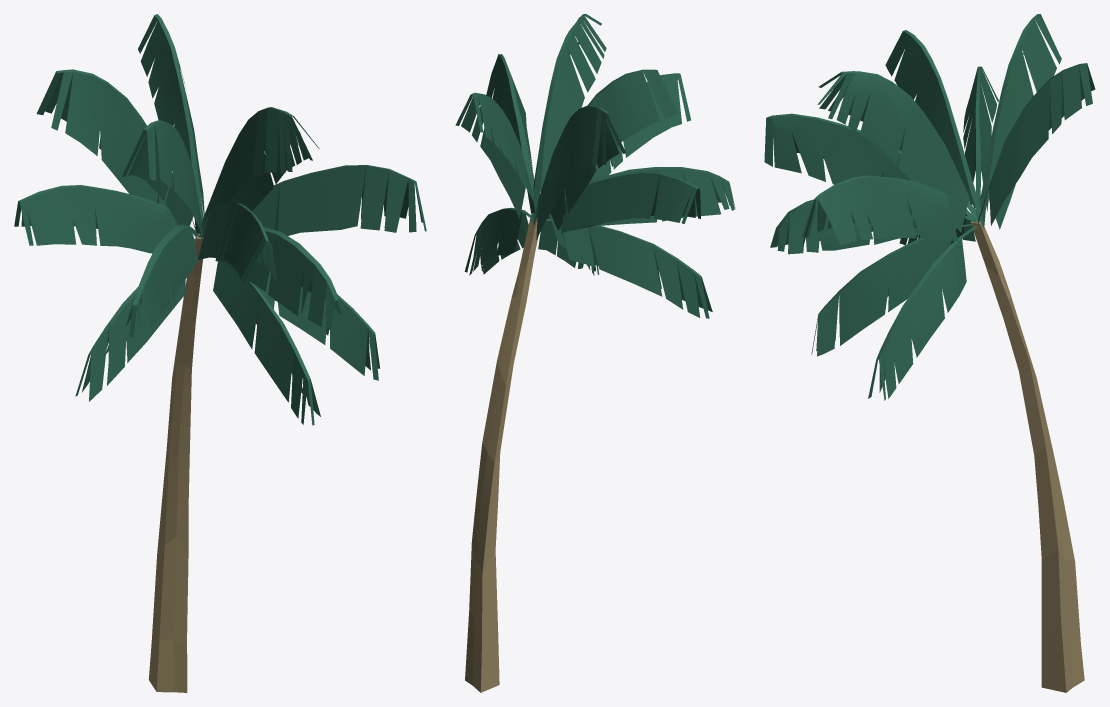
The model's file is tree_palm_nibong_D.fbx.
The picture shows the model from 3 angles, left to right: view 1: azimuth 30°, elevation 25°; view 2: azimuth 150°, elevation 25°; view 3: azimuth 270°, elevation 25°; orthographic projection. The views are drawn at different scales.
Visible parts, largest first — view 1: palm_nibong_trunk_D, leaf_palm_nebong_D_6, leaf_palm_nebong_D_8, leaf_palm_nebong_D_2, leaf_palm_nebong_D_3, leaf_palm_nebong_D_12, leaf_palm_nebong_D_5, leaf_palm_nebong_D_4, leaf_palm_nebong_D_1, leaf_palm_nebong_D_13, leaf_palm_nebong_D_7, leaf_palm_nebong_D_9 (+1 smaller); view 2: palm_nibong_trunk_D, leaf_palm_nebong_D_9, leaf_palm_nebong_D_8, leaf_palm_nebong_D_2, leaf_palm_nebong_D_3, leaf_palm_nebong_D_1, leaf_palm_nebong_D_4, leaf_palm_nebong_D_11, leaf_palm_nebong_D_13, leaf_palm_nebong_D_6, leaf_palm_nebong_D_7, leaf_palm_nebong_D_12; view 3: palm_nibong_trunk_D, leaf_palm_nebong_D_3, leaf_palm_nebong_D_6, leaf_palm_nebong_D_7, leaf_palm_nebong_D_12, leaf_palm_nebong_D_11, leaf_palm_nebong_D_1, leaf_palm_nebong_D_2, leaf_palm_nebong_D_4, leaf_palm_nebong_D_8, leaf_palm_nebong_D_5.
Boxes of the visible parts, x1,y1,x2,y2 form: palm_nibong_trunk_D: (148, 233, 203, 692); leaf_palm_nebong_D_6: (252, 165, 426, 235); leaf_palm_nebong_D_8: (14, 185, 198, 253); leaf_palm_nebong_D_2: (36, 69, 196, 231); leaf_palm_nebong_D_3: (198, 107, 319, 233); leaf_palm_nebong_D_12: (213, 261, 320, 425); leaf_palm_nebong_D_5: (225, 227, 345, 330); leaf_palm_nebong_D_4: (122, 120, 202, 243); leaf_palm_nebong_D_1: (138, 14, 204, 222); leaf_palm_nebong_D_13: (125, 224, 198, 337); leaf_palm_nebong_D_7: (198, 203, 277, 283); leaf_palm_nebong_D_9: (75, 238, 196, 401); palm_nibong_trunk_D: (465, 217, 538, 692); leaf_palm_nebong_D_9: (532, 218, 712, 318); leaf_palm_nebong_D_8: (561, 172, 700, 232); leaf_palm_nebong_D_2: (533, 105, 625, 240); leaf_palm_nebong_D_3: (530, 14, 606, 221); leaf_palm_nebong_D_1: (455, 92, 536, 218); leaf_palm_nebong_D_4: (534, 69, 677, 223); leaf_palm_nebong_D_11: (464, 207, 535, 275); leaf_palm_nebong_D_13: (535, 167, 735, 225); leaf_palm_nebong_D_6: (486, 54, 534, 196); leaf_palm_nebong_D_7: (565, 73, 690, 202); leaf_palm_nebong_D_12: (532, 213, 599, 275); palm_nibong_trunk_D: (971, 220, 1084, 692); leaf_palm_nebong_D_3: (817, 71, 982, 232); leaf_palm_nebong_D_6: (802, 175, 976, 245); leaf_palm_nebong_D_7: (764, 113, 975, 219); leaf_palm_nebong_D_12: (811, 222, 983, 356); leaf_palm_nebong_D_11: (868, 226, 978, 400); leaf_palm_nebong_D_1: (977, 63, 1095, 225); leaf_palm_nebong_D_2: (980, 14, 1061, 229); leaf_palm_nebong_D_4: (885, 30, 983, 225); leaf_palm_nebong_D_8: (963, 66, 998, 219); leaf_palm_nebong_D_5: (770, 199, 982, 254).
Size of the model in its own units: 160 by 319 by 154.
